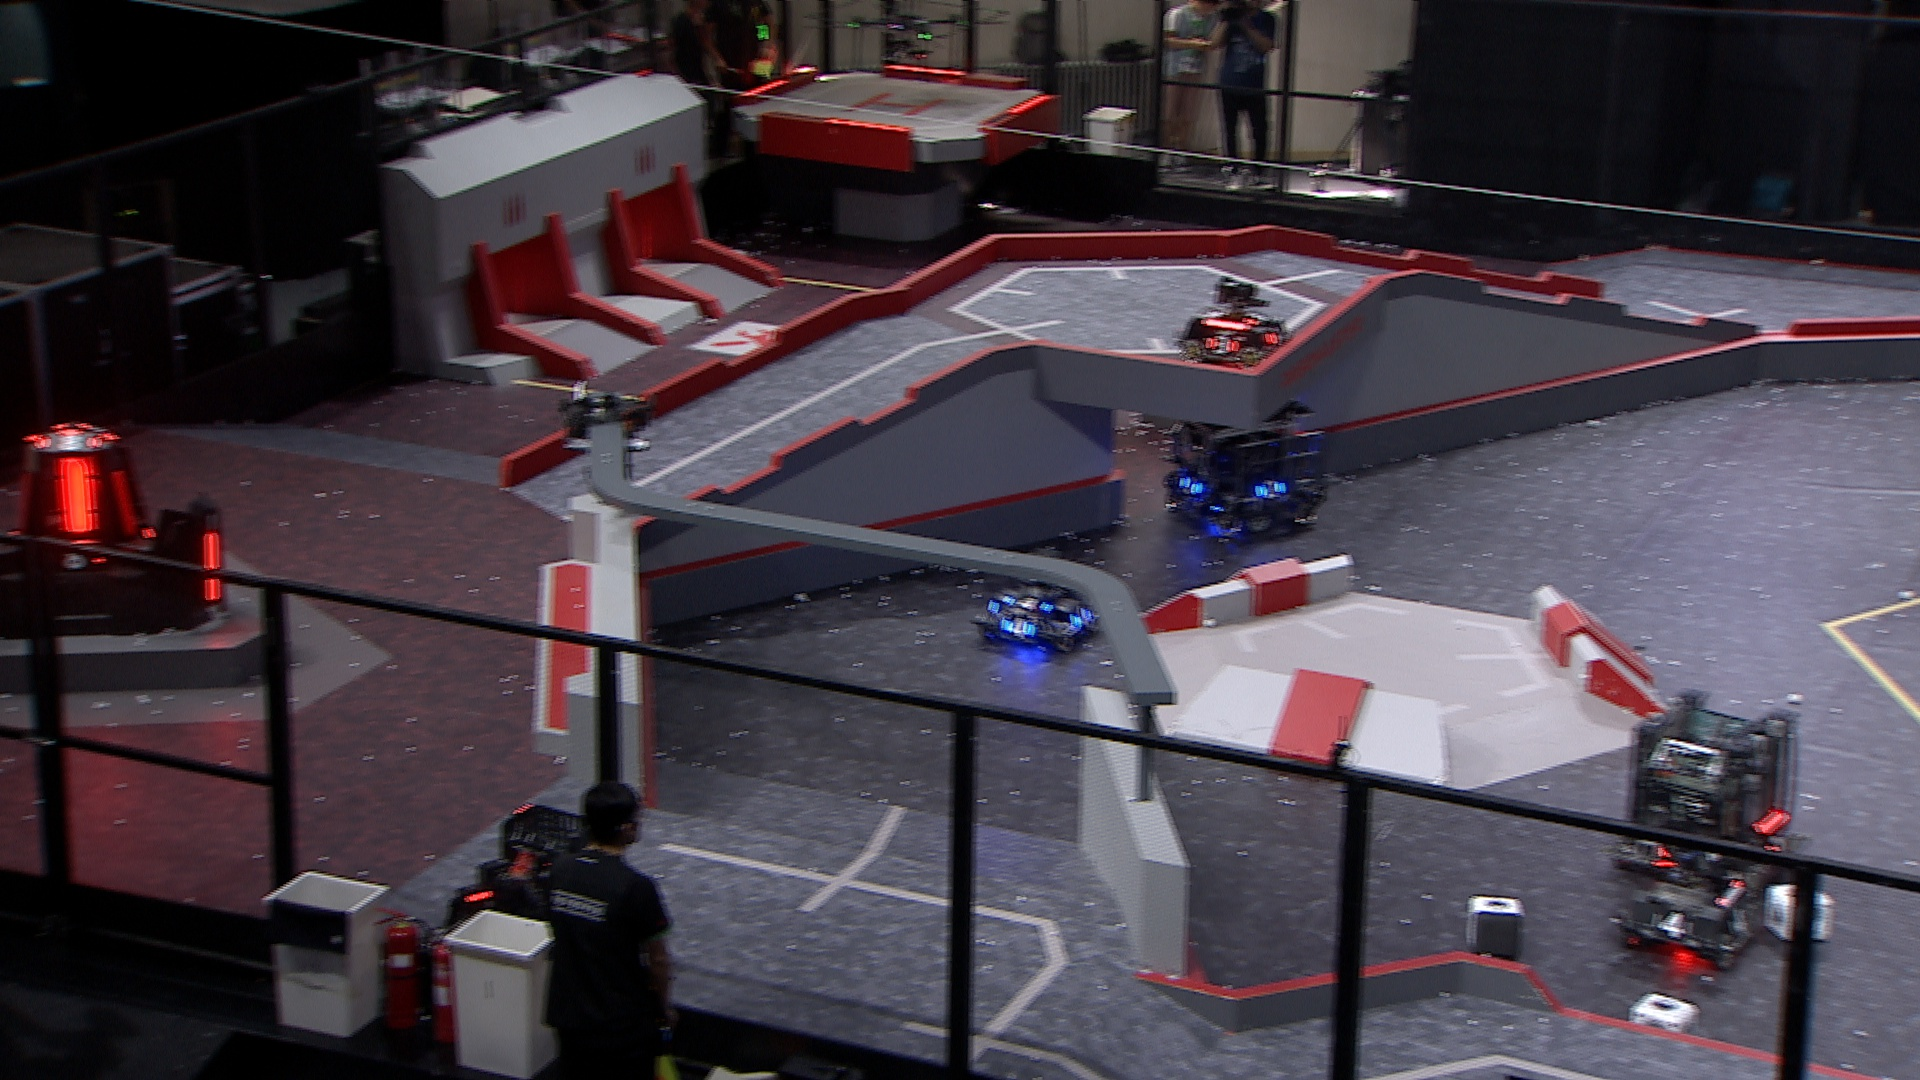armor: (55, 452, 100, 543), (200, 531, 223, 603), (111, 469, 136, 533), (1651, 911, 1695, 944), (50, 545, 109, 568), (13, 469, 34, 533), (34, 433, 102, 450), (998, 616, 1038, 641), (1001, 593, 1048, 613), (1727, 905, 1753, 934), (1255, 477, 1284, 498), (1205, 334, 1238, 351), (1182, 471, 1205, 495), (1245, 311, 1273, 328), (1760, 837, 1788, 855), (1073, 605, 1093, 629), (1266, 328, 1287, 342)
car: (1609, 684, 1812, 897), (440, 794, 632, 978), (1162, 390, 1332, 543), (1627, 839, 1771, 973), (975, 543, 1114, 657), (1176, 276, 1291, 368)
watcher: (556, 378, 651, 485)
